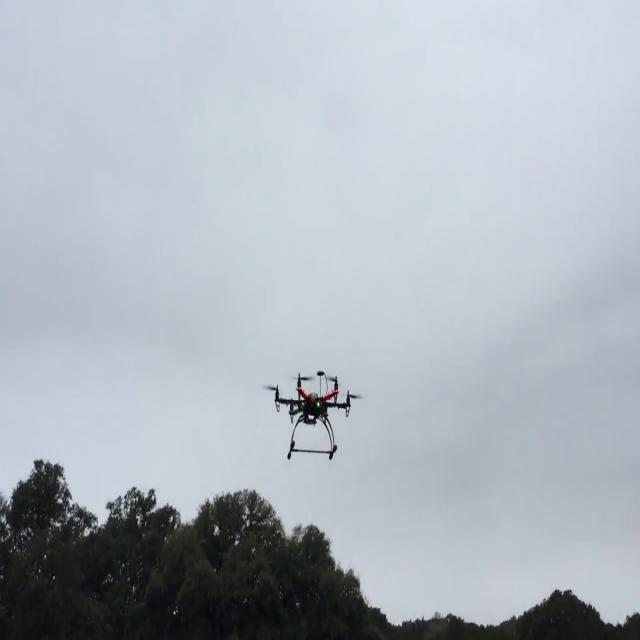drone: (259, 362, 364, 478)
